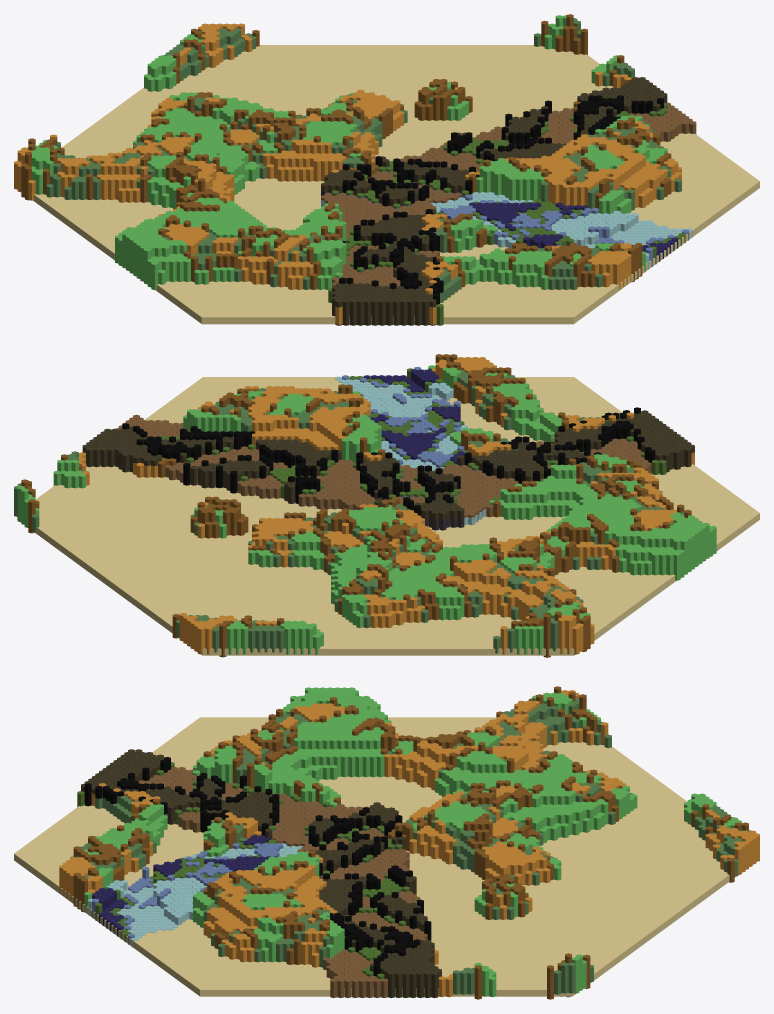
File: 0049_tile_1122210.fbx
The picture shows the model from 3 angles, top to bottom: view 1: azimuth 30°, elevation 25°; view 2: azimuth 150°, elevation 25°; view 3: azimuth 270°, elevation 25°; orthographic projection.
Visible parts, largest first — view 1: Plane; view 2: Plane; view 3: Plane.
Boxes of the visible parts, <box> form: Plane: <box>14,14,759,325</box>; Plane: <box>14,354,759,657</box>; Plane: <box>14,686,759,999</box>.
Size of the model in its own units: 1008 by 69.09 by 1152.
